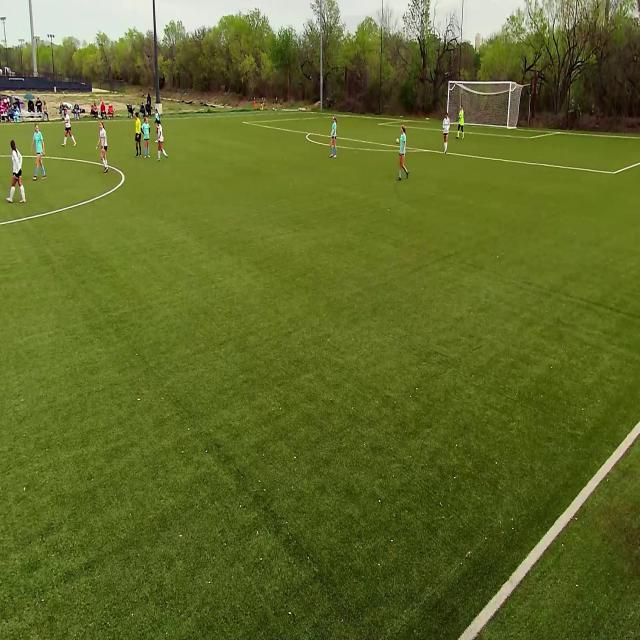ball: (396, 137, 400, 144)
team1: (33, 125, 47, 182), (398, 126, 411, 183), (141, 113, 150, 158), (332, 117, 339, 159)
team2: (9, 141, 27, 204), (99, 123, 110, 175), (62, 109, 76, 148), (156, 120, 168, 161), (442, 114, 451, 154)
